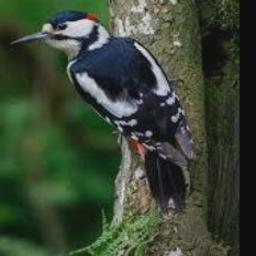Woodpecker: (11, 10, 198, 213)
